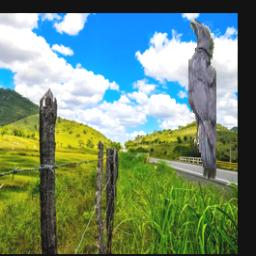Crow: (189, 19, 217, 179)
